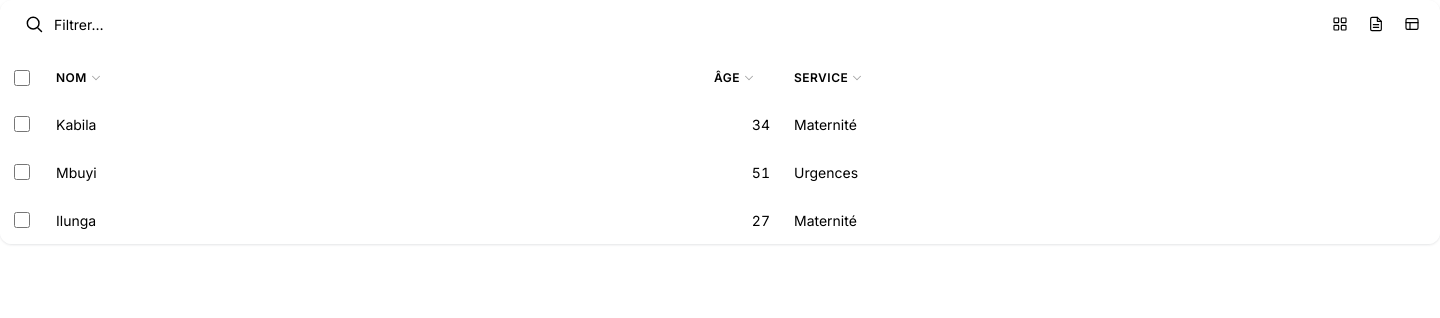
Test: DataTable › groupe d’en-tête : la case « tout sélectionner » devient indéterminée
The width and height of the screenshot is (1440, 318).
What coordinates should you click on to do the following:
click the checkbox named "Tout sélectionner"
I would click on:
 (22, 78)
Its box is [14, 70, 30, 86].
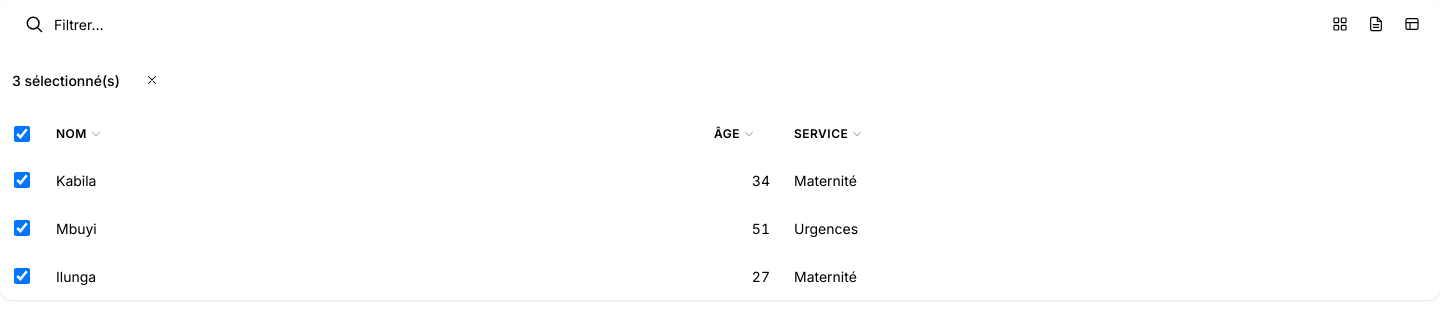
Expected: the checkbox named "Tout sélectionner" is checked, [14, 126, 30, 142]
Expected: the text "3 sélectionné(s)" is shown, [12, 70, 120, 90]
